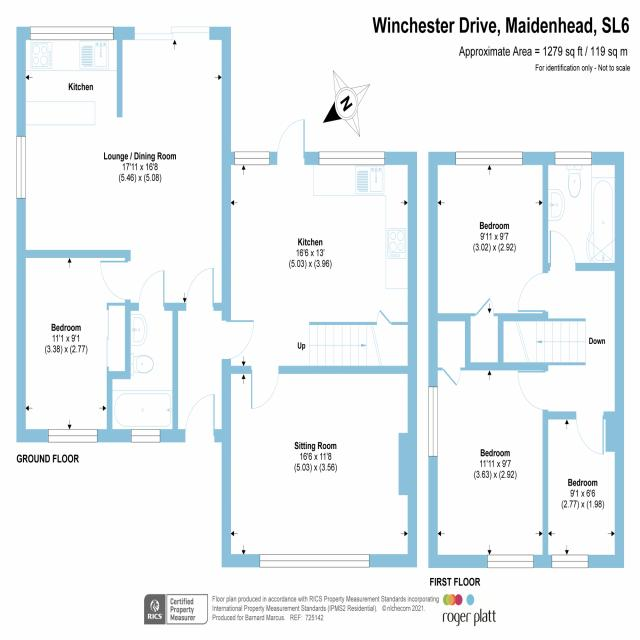DOOR: (183, 391, 216, 444), (275, 117, 306, 167), (220, 319, 256, 361), (517, 270, 551, 314), (514, 371, 550, 412), (184, 266, 216, 312), (98, 259, 132, 302), (250, 364, 280, 411), (575, 410, 605, 457), (549, 228, 578, 273), (137, 268, 166, 312)
ROOM: (16, 26, 231, 311), (221, 117, 418, 412), (221, 365, 418, 569), (427, 312, 549, 569), (16, 249, 131, 443), (428, 151, 549, 323), (542, 410, 625, 569)
SLIDING DOOR: (133, 25, 211, 41)
WINDOW: (258, 553, 371, 569), (28, 24, 115, 42), (318, 150, 386, 167), (454, 151, 524, 167), (15, 135, 28, 202), (427, 386, 439, 458), (48, 428, 98, 444), (487, 553, 535, 569), (233, 150, 271, 168), (554, 150, 593, 166), (551, 554, 589, 569), (131, 428, 161, 444)
